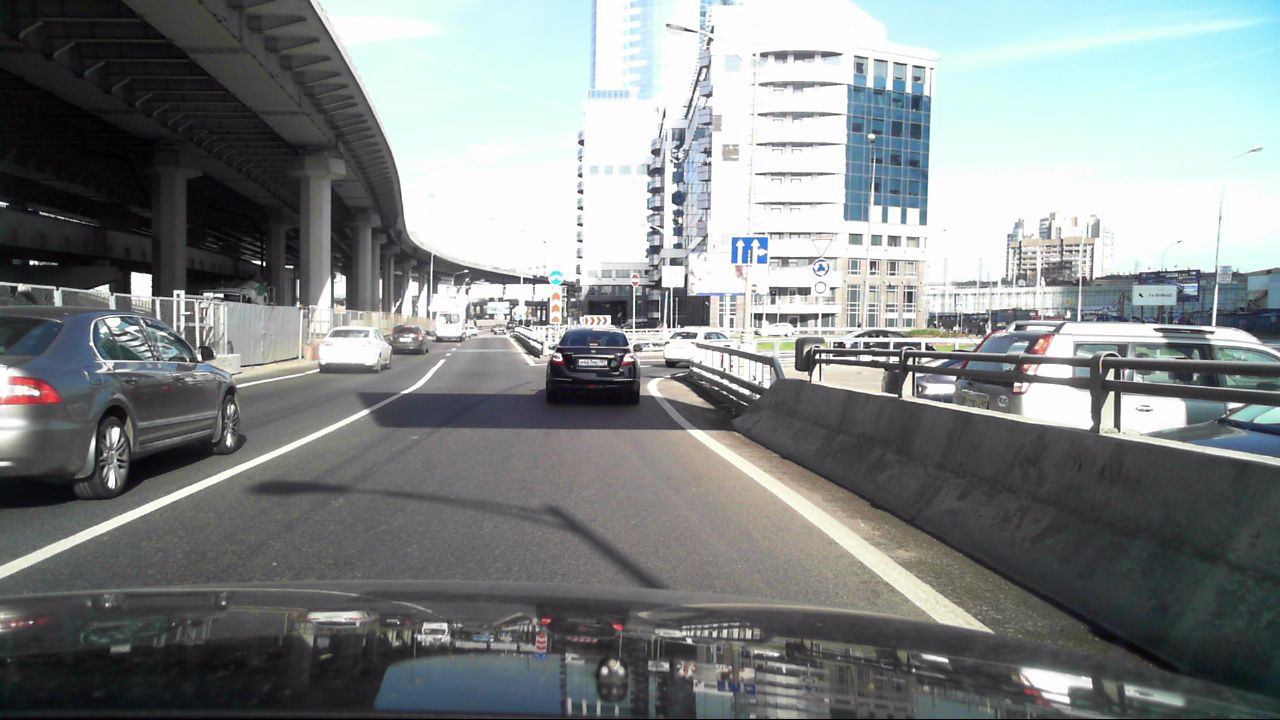Round-About: (811, 258, 831, 276)
